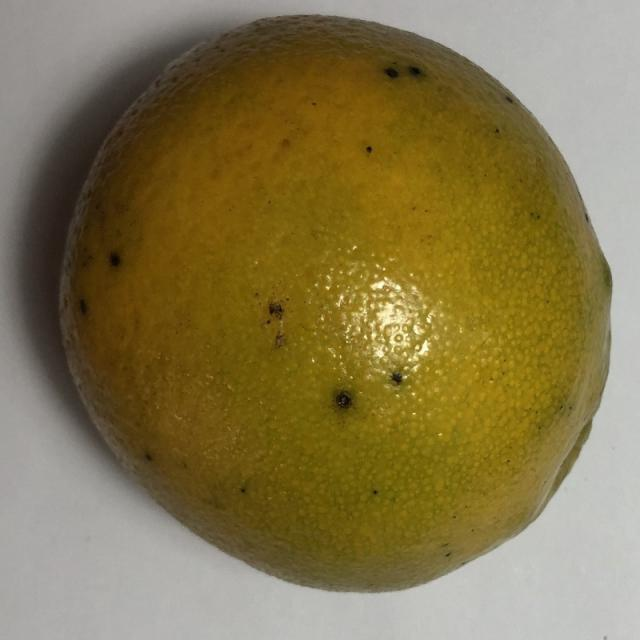blackspot: (26, 4, 627, 599)
